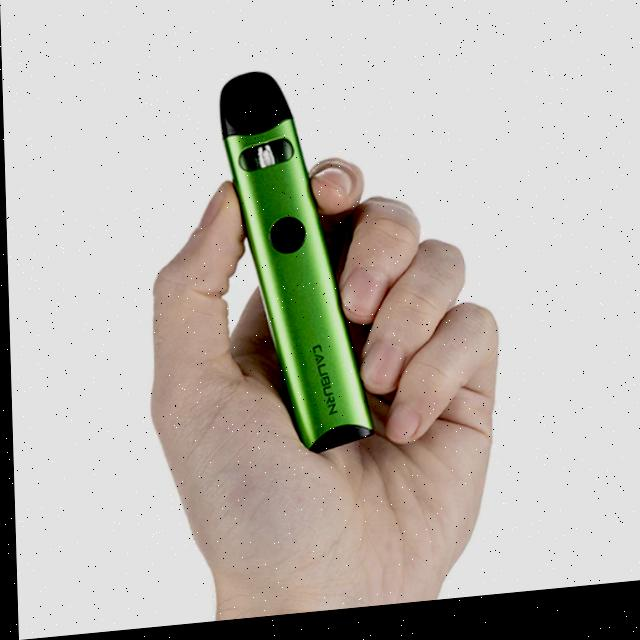vape: (218, 67, 371, 463)
